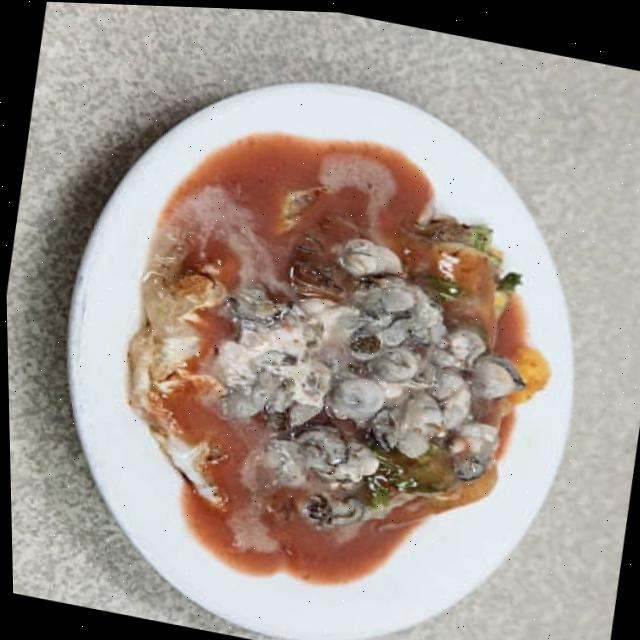熟制海鲜: (15, 25, 617, 640)
